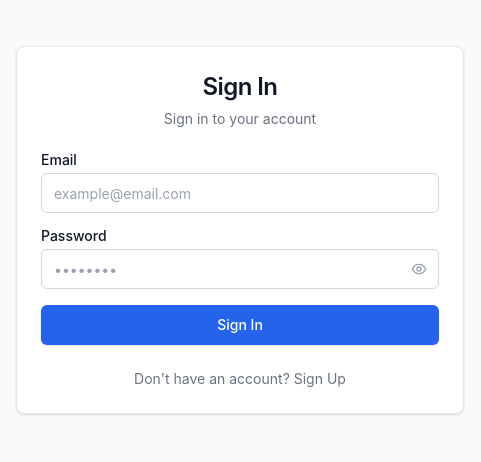
Test: LoginPage › should show inline error on 401 response
This screenshot has width=481, height=462.
In the field labelled "Email": (240, 193) [41, 173, 439, 213], type "bad@test.com"
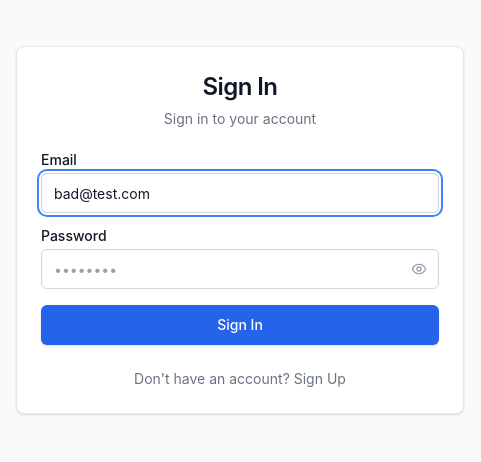
In the password field labelled "Password": (240, 269) [41, 249, 439, 289], type "WrongPass1"
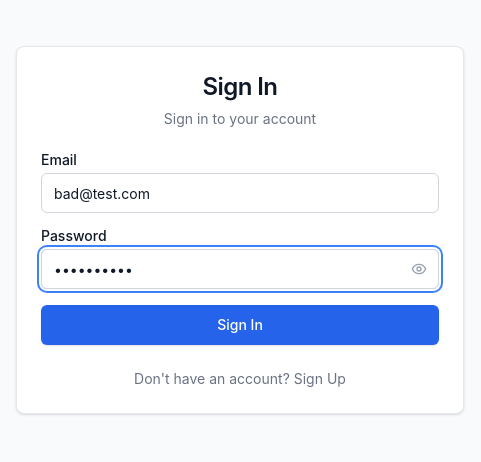
Click the button "Sign In": (240, 325) [41, 305, 439, 345]
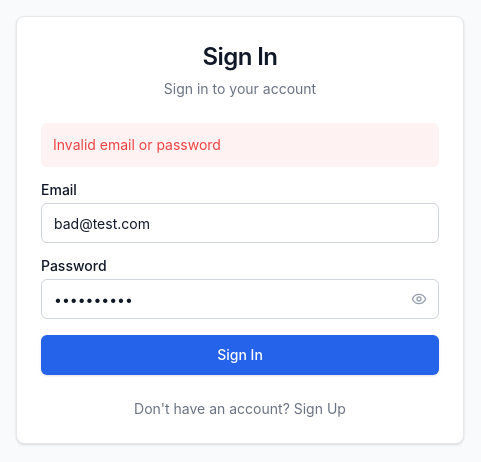
Now the text "Invalid email or password" is shown, box [41, 123, 439, 167]
